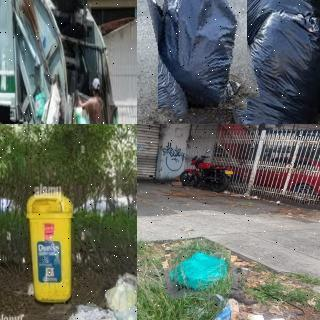Garbage: (151, 0, 253, 113), (231, 4, 320, 124), (163, 247, 233, 297), (230, 0, 320, 38), (120, 306, 137, 320)
